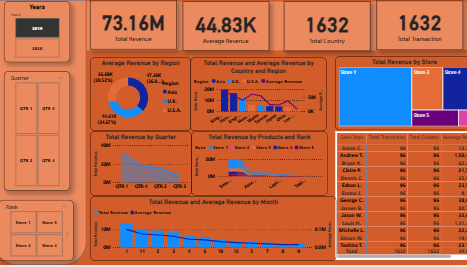

The page's visual inventory and layout, read from the dashboard file:
{"tool":"powerbi","page":{"name":"Page 1","canvas":[1280,720],"ordinal":0},"visuals":[{"type":"shape","box":[0,14,246,706],"z":0},{"type":"shape","box":[246,16,1034,132],"z":1000},{"type":"card","fields":{"Values":["Measures (2).Total Revenue"]},"box":[256,14,230,132],"z":2000},{"type":"card","fields":{"Values":["Measures (2).Average Revenue"]},"box":[504,16,230,132],"z":3000},{"type":"card","fields":{"Values":["Measures (2).Total Country"]},"box":[772.5,15,230,132.5],"z":4000},{"type":"card","fields":{"Values":["Measures (2).Total Transaction"]},"box":[1020,12.5,230,132.5],"z":5000},{"type":"donutChart","fields":{"Y":["Measures (2).Average Revenue"],"Category":["Sheet1.Region"]},"box":[256.2,165,268.8,195],"z":6000},{"type":"lineStackedColumnComboChart","fields":{"Category":["Sheet1.Country"],"Y":["Measures (2).Total Revenue"],"Y2":["Measures (2).Average Revenue"],"Series":["Sheet1.Region"]},"box":[524,166,364,196],"z":7000},{"type":"treemap","title":"Total Revenue by Store","fields":{"Values":["Measures (2).Total Revenue"],"Group":["Sheet1.Rank"]},"box":[911,164,369,197],"z":8000},{"type":"areaChart","fields":{"Y":["Measures (2).Total Revenue"],"Category":["Sheet1.Quarter"]},"box":[256,362,270,172],"z":9000},{"type":"ribbonChart","fields":{"Category":["Sheet1.Products"],"Y":["Measures (2).Total Revenue"],"Series":["Sheet1.Rank"]},"box":[526,362,362,172],"z":10000},{"type":"pivotTable","fields":{"Rows":["Sheet1.Sales Reps"],"Values":["Measures (2).Total Transaction","Measures (2).Total Country","Measures (2).Average Revenue"]},"box":[911,362,369,343],"z":11000},{"type":"slicer","title":"Years","fields":{"Values":["Sheet1.Years"]},"box":[26,16,176,162],"z":12000},{"type":"lineStackedColumnComboChart","fields":{"Y":["Measures (2).Total Revenue"],"Y2":["Measures (2).Average Revenue"],"Category":["Sheet1.Month"]},"box":[256,536,656,172],"z":13000},{"type":"slicer","fields":{"Values":["Sheet1.Quarter"]},"box":[26,204,176,318],"z":13001},{"type":"slicer","fields":{"Values":["Sheet1.Rank"]},"box":[14,546,198,162],"z":13002}]}

Visuals, with their boxes in screenshot pixels (x1, y1, x2, y2), scaled from the page's 1280x720 canvas onto the 467x267 screenshot:
shape: [left=0, top=5, right=90, bottom=266]
shape: [left=90, top=6, right=466, bottom=55]
card - Measures (2).Total Revenue: [left=93, top=5, right=177, bottom=54]
card - Measures (2).Average Revenue: [left=184, top=6, right=268, bottom=55]
card - Measures (2).Total Country: [left=282, top=6, right=366, bottom=55]
card - Measures (2).Total Transaction: [left=372, top=5, right=456, bottom=54]
donutChart - Measures (2).Average Revenue x Sheet1.Region: [left=93, top=61, right=192, bottom=134]
lineStackedColumnComboChart - Sheet1.Country x Measures (2).Total Revenue: [left=191, top=62, right=324, bottom=134]
"Total Revenue by Store" treemap: [left=332, top=61, right=466, bottom=134]
areaChart - Measures (2).Total Revenue x Sheet1.Quarter: [left=93, top=134, right=192, bottom=198]
ribbonChart - Sheet1.Products x Measures (2).Total Revenue: [left=192, top=134, right=324, bottom=198]
pivotTable - Sheet1.Sales Reps x Measures (2).Total Transaction: [left=332, top=134, right=466, bottom=261]
"Years" slicer: [left=9, top=6, right=74, bottom=66]
lineStackedColumnComboChart - Measures (2).Total Revenue x Measures (2).Average Revenue: [left=93, top=199, right=333, bottom=263]
slicer - Sheet1.Quarter: [left=9, top=76, right=74, bottom=194]
slicer - Sheet1.Rank: [left=5, top=202, right=77, bottom=263]
